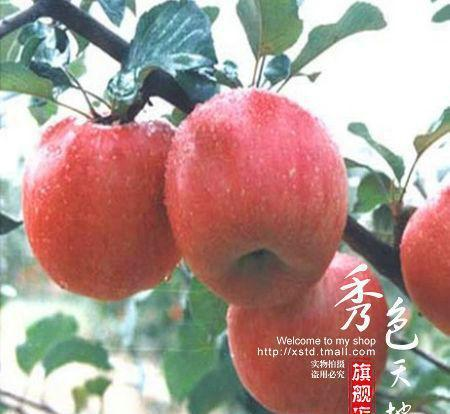apple: (165, 89, 352, 307), (20, 116, 182, 304), (228, 248, 390, 414), (400, 183, 450, 333)
